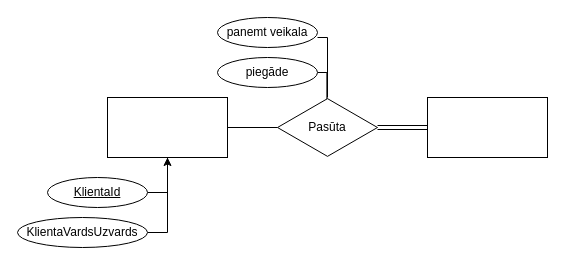
The diagram is 565 pixels wide and 265 high, and some of its shapes have lost their labels. The shapes that lost their labels are listed below. From the top down, each one's centre as x and y in pixels, then its label:
point (167, 127): Klients
point (487, 127): produkti
